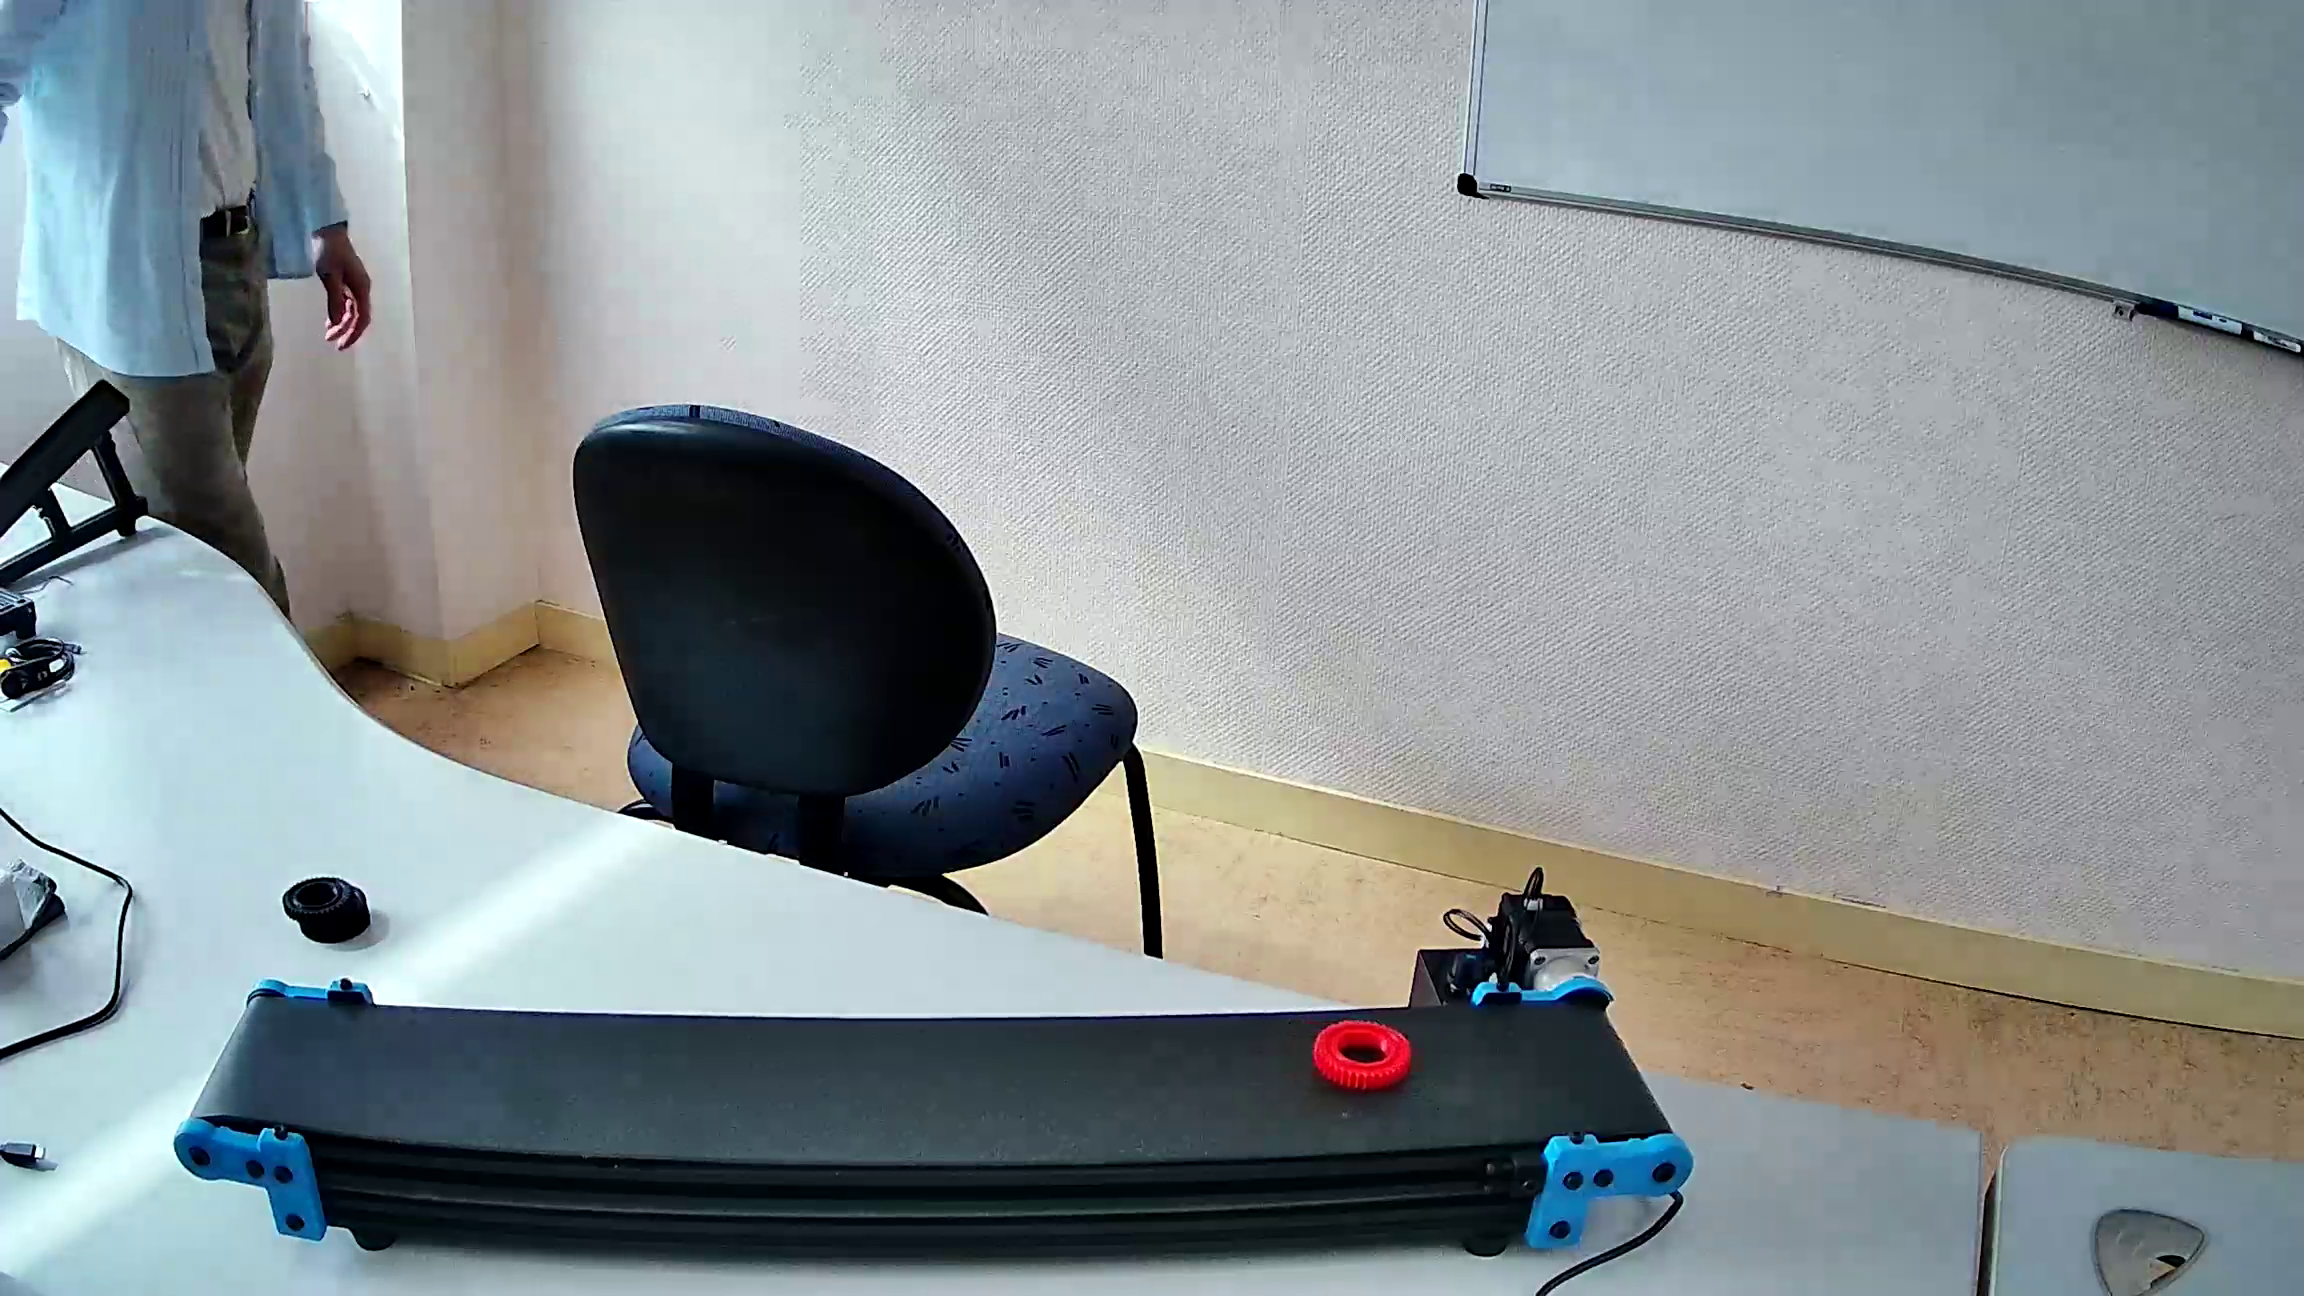good: (275, 878, 369, 946)
not_good: (1310, 1019, 1412, 1086)
